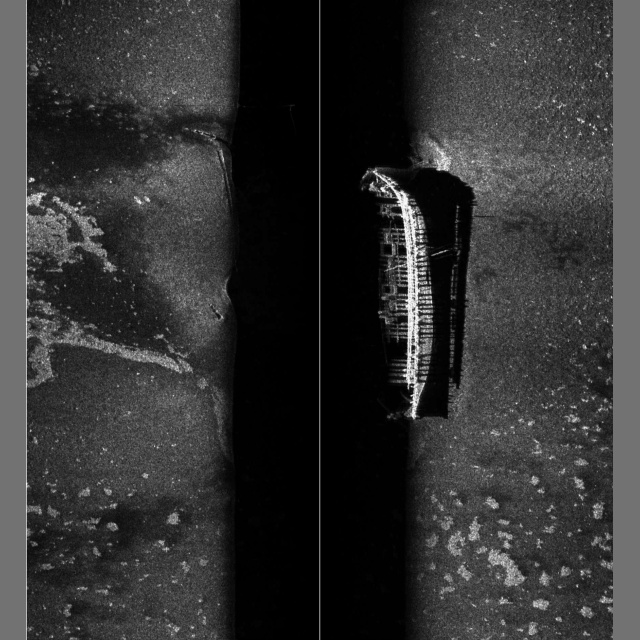Shipwreck: (184, 127, 461, 421)
